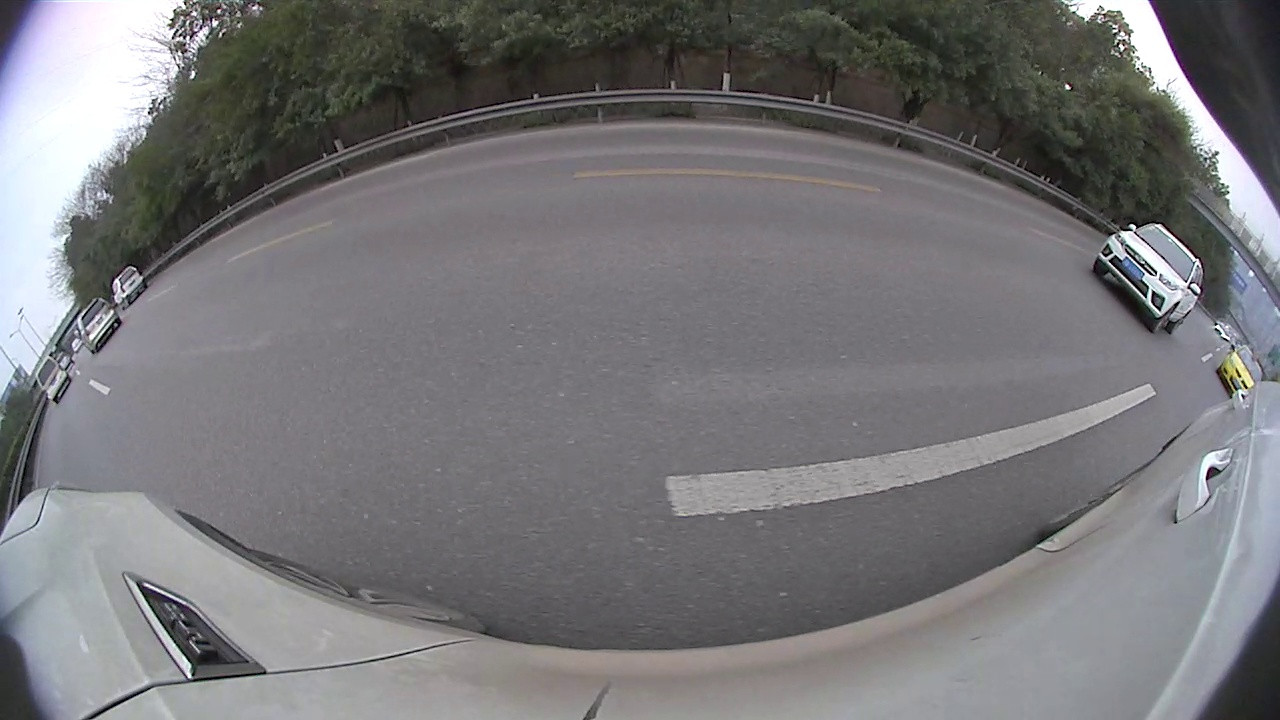car: (1092, 220, 1205, 336), (76, 296, 123, 356), (1215, 343, 1265, 399), (35, 355, 73, 405), (110, 264, 148, 312)
front: (1152, 305, 1175, 335)
